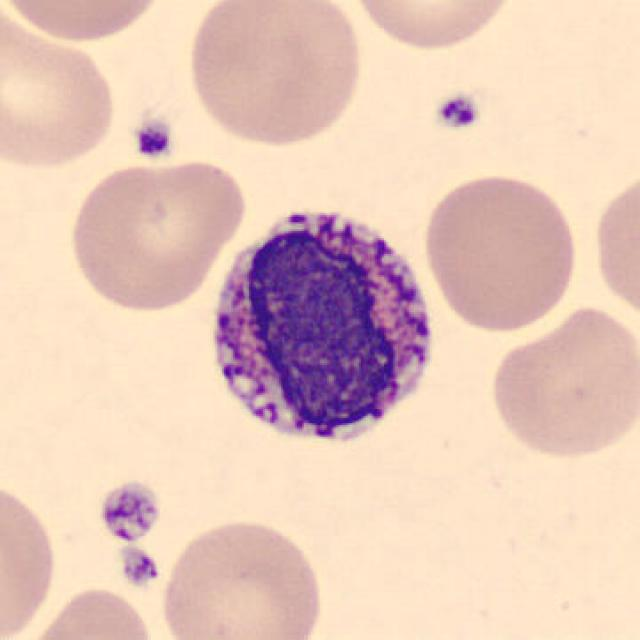Basophil: (196, 190, 446, 466)
Platelets: (94, 478, 166, 546), (430, 88, 484, 136), (128, 115, 178, 162), (115, 544, 163, 590)
RBC: (64, 154, 251, 316), (180, 0, 368, 150), (418, 167, 583, 335), (484, 300, 638, 463), (155, 513, 329, 640), (0, 7, 121, 175), (0, 472, 64, 640), (341, 0, 519, 53), (10, 582, 164, 640), (588, 164, 638, 330), (0, 0, 174, 46)
